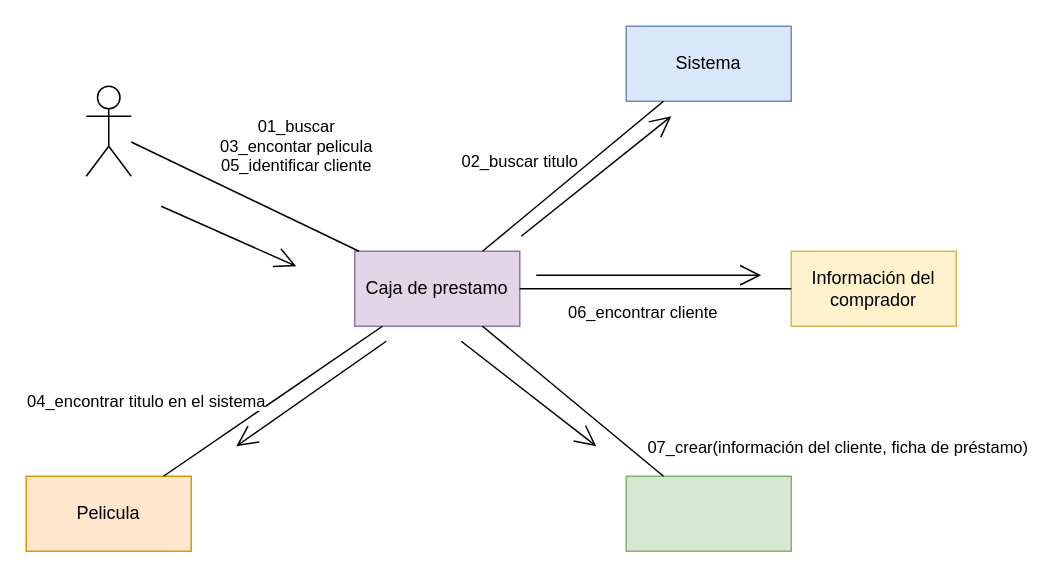
The diagram is 1055 pixels wide and 578 high, and some of its shapes have lost their labels. Here are the shapes that lost their labels. From the top down, the centre of each, then its label:
At pixel 108 130: "empleado".
At pixel 708 513: "Prestamo".
